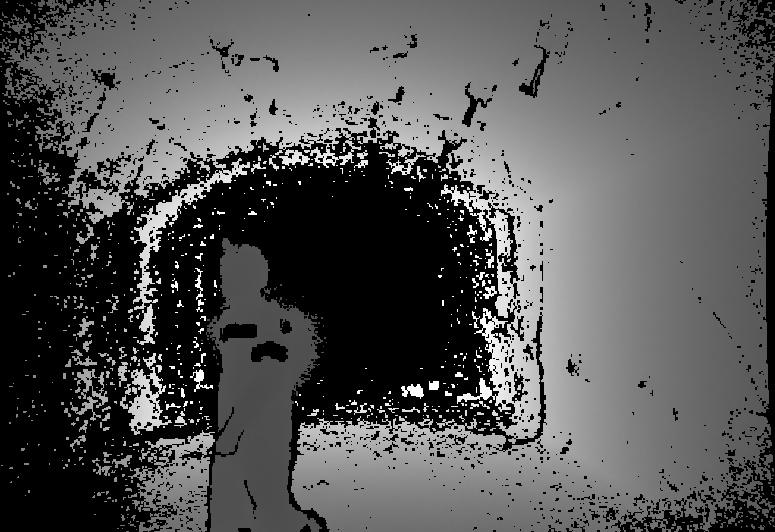person: (206, 236, 323, 532)
